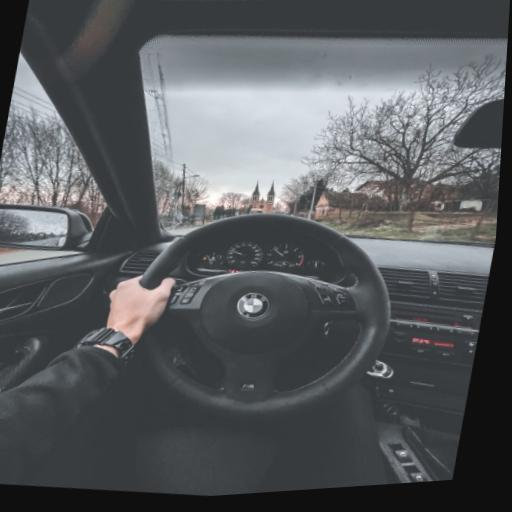Hands-on-the-Wheel: (48, 238, 210, 372)
